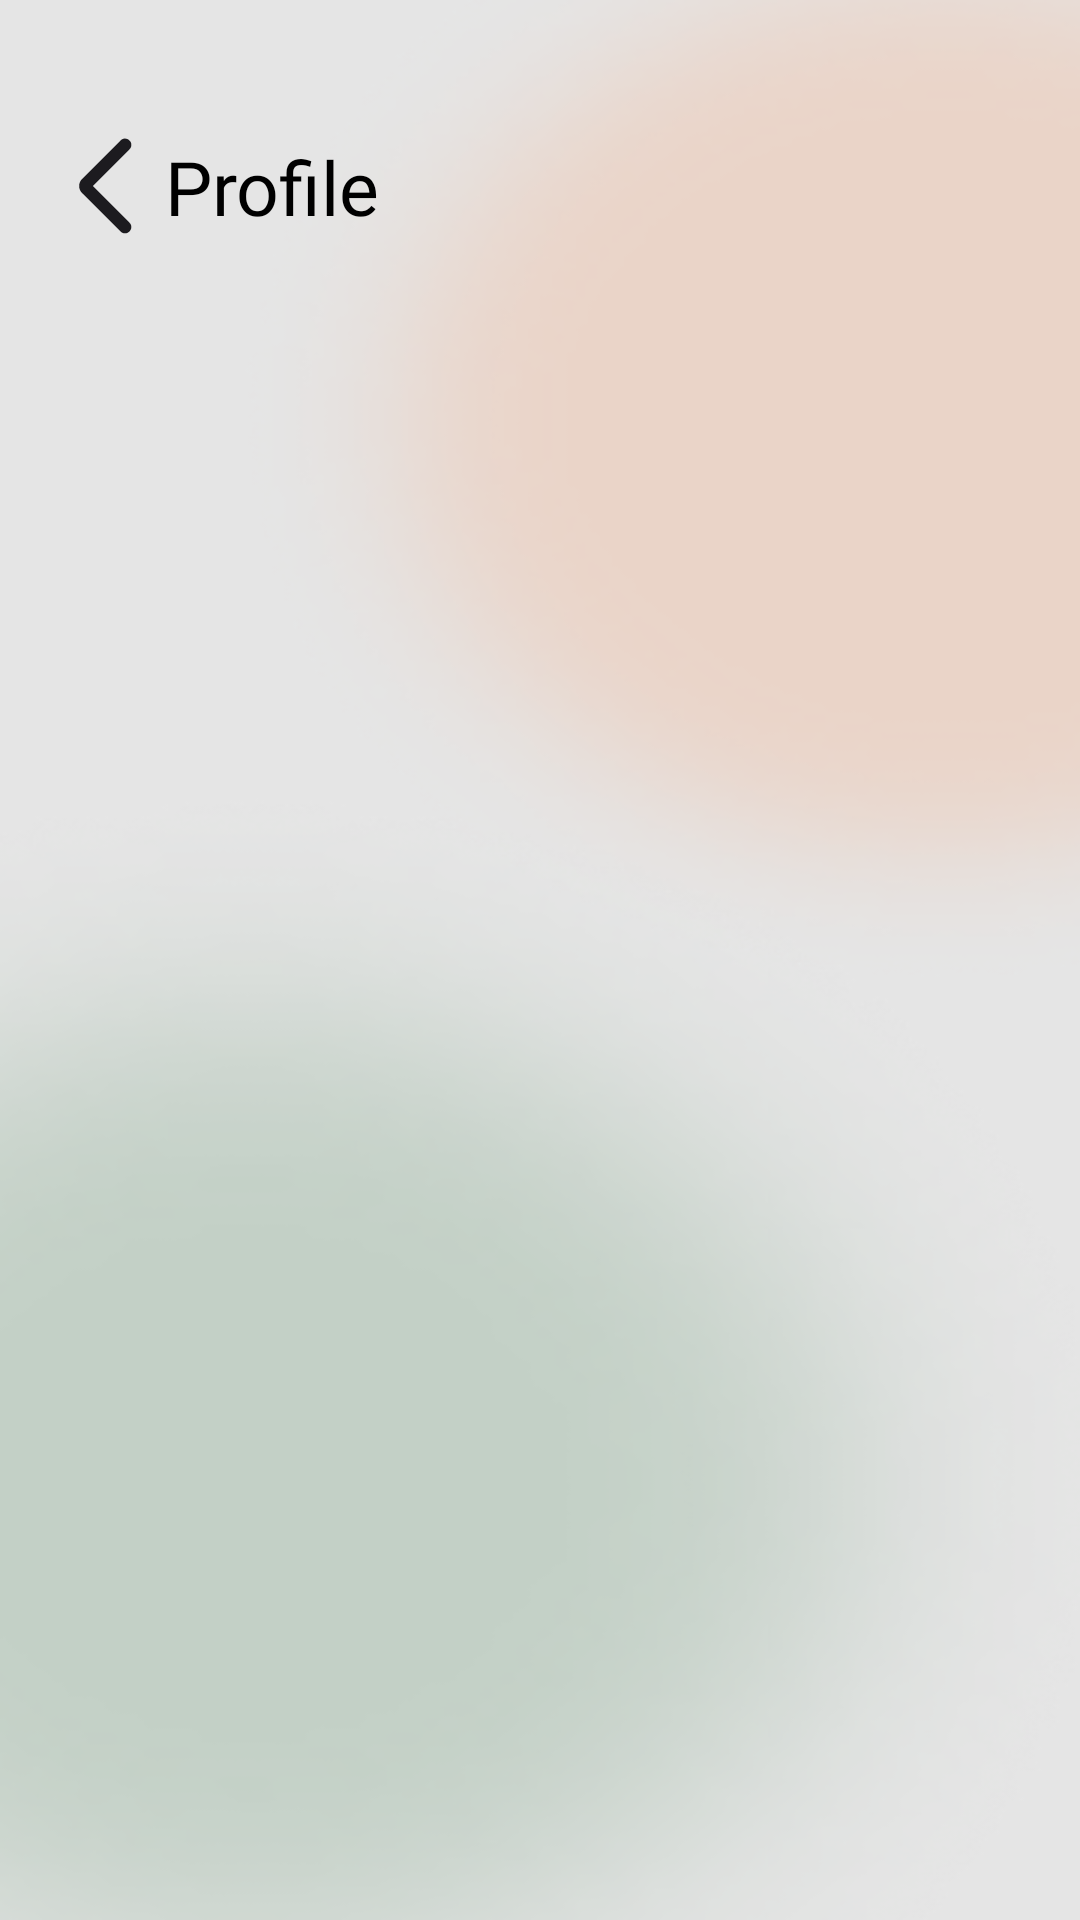

Screen size 1080px×1920px. Icon name, then its center in pixels as point (x, y):
arrow back: point (105, 186)
